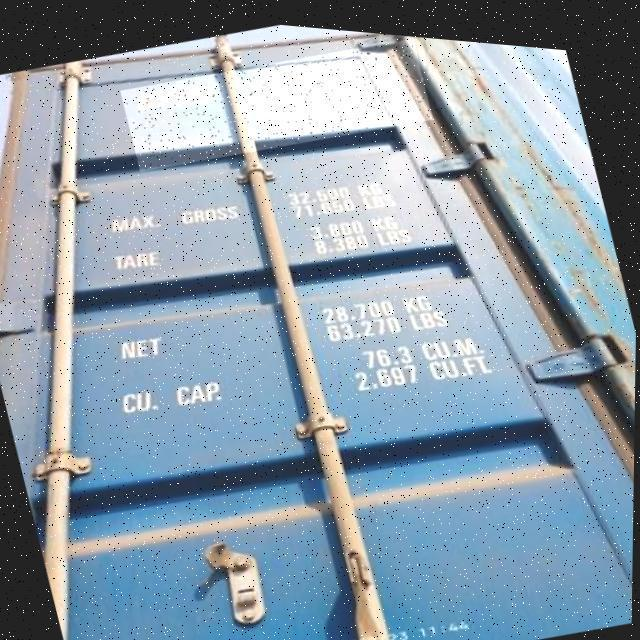container_number_h: (119, 10, 434, 189)
